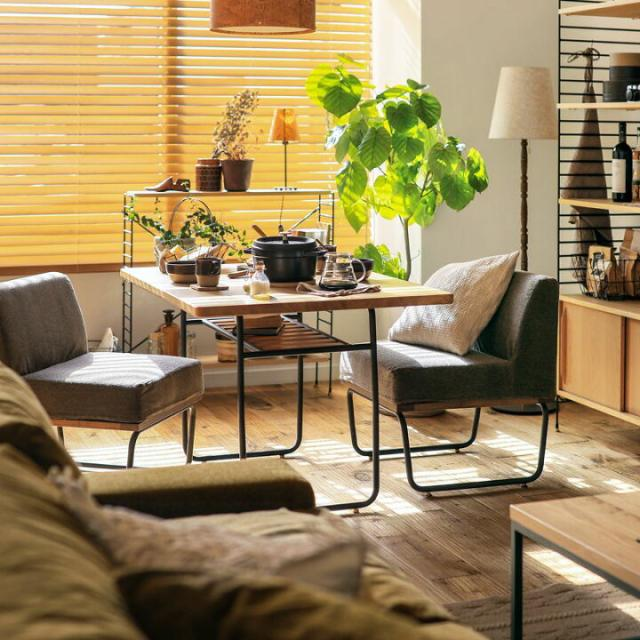vintage chair: (360, 266, 565, 498), (2, 261, 193, 464)
vintage desk: (121, 252, 454, 512)
vintage shelf: (552, 4, 640, 454)
